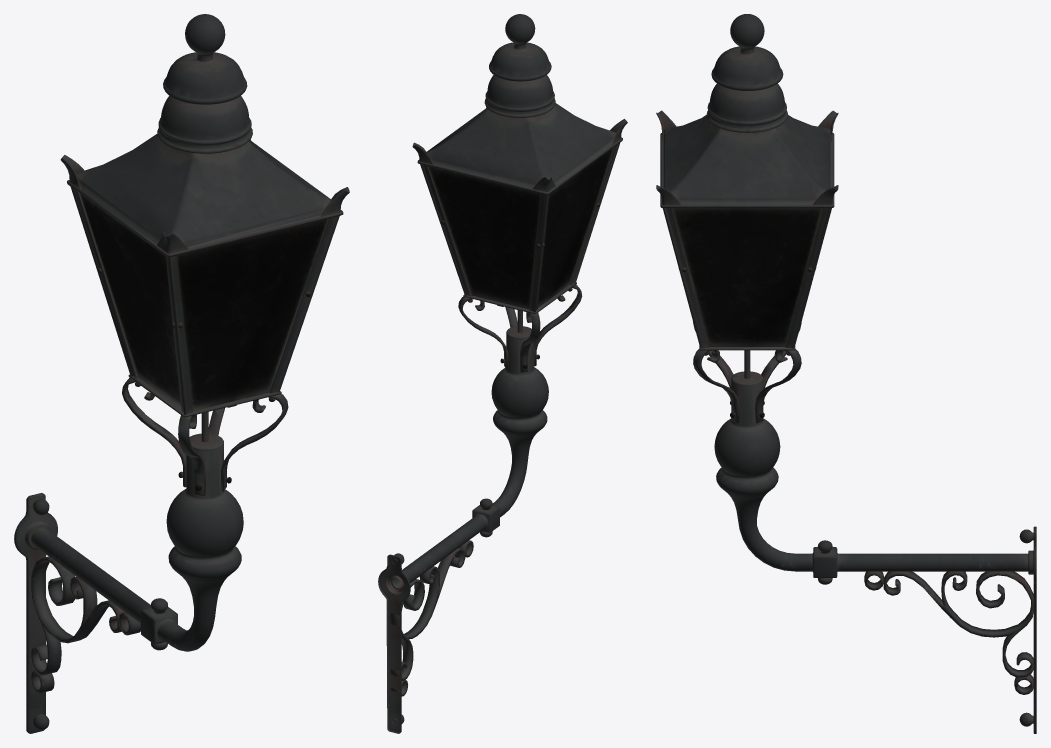
Rendered from street_lamp_02.glb.
3 views of the same model, side by side, from view 1: azimuth 30°, elevation 25°; view 2: azimuth 150°, elevation 25°; view 3: azimuth 270°, elevation 25° (orthographic). The views are drawn at different scales.
Visible parts, largest first — view 1: street_lamp_02; view 2: street_lamp_02; view 3: street_lamp_02.
Part boxes in pixels (<box>): street_lamp_02: <box>14,14,349,733</box>; street_lamp_02: <box>378,14,627,733</box>; street_lamp_02: <box>656,14,1036,733</box>.
Bounding box in the file's own units: 0.3865 × 1.68 × 0.8067.
2 materials, 2 textured.
